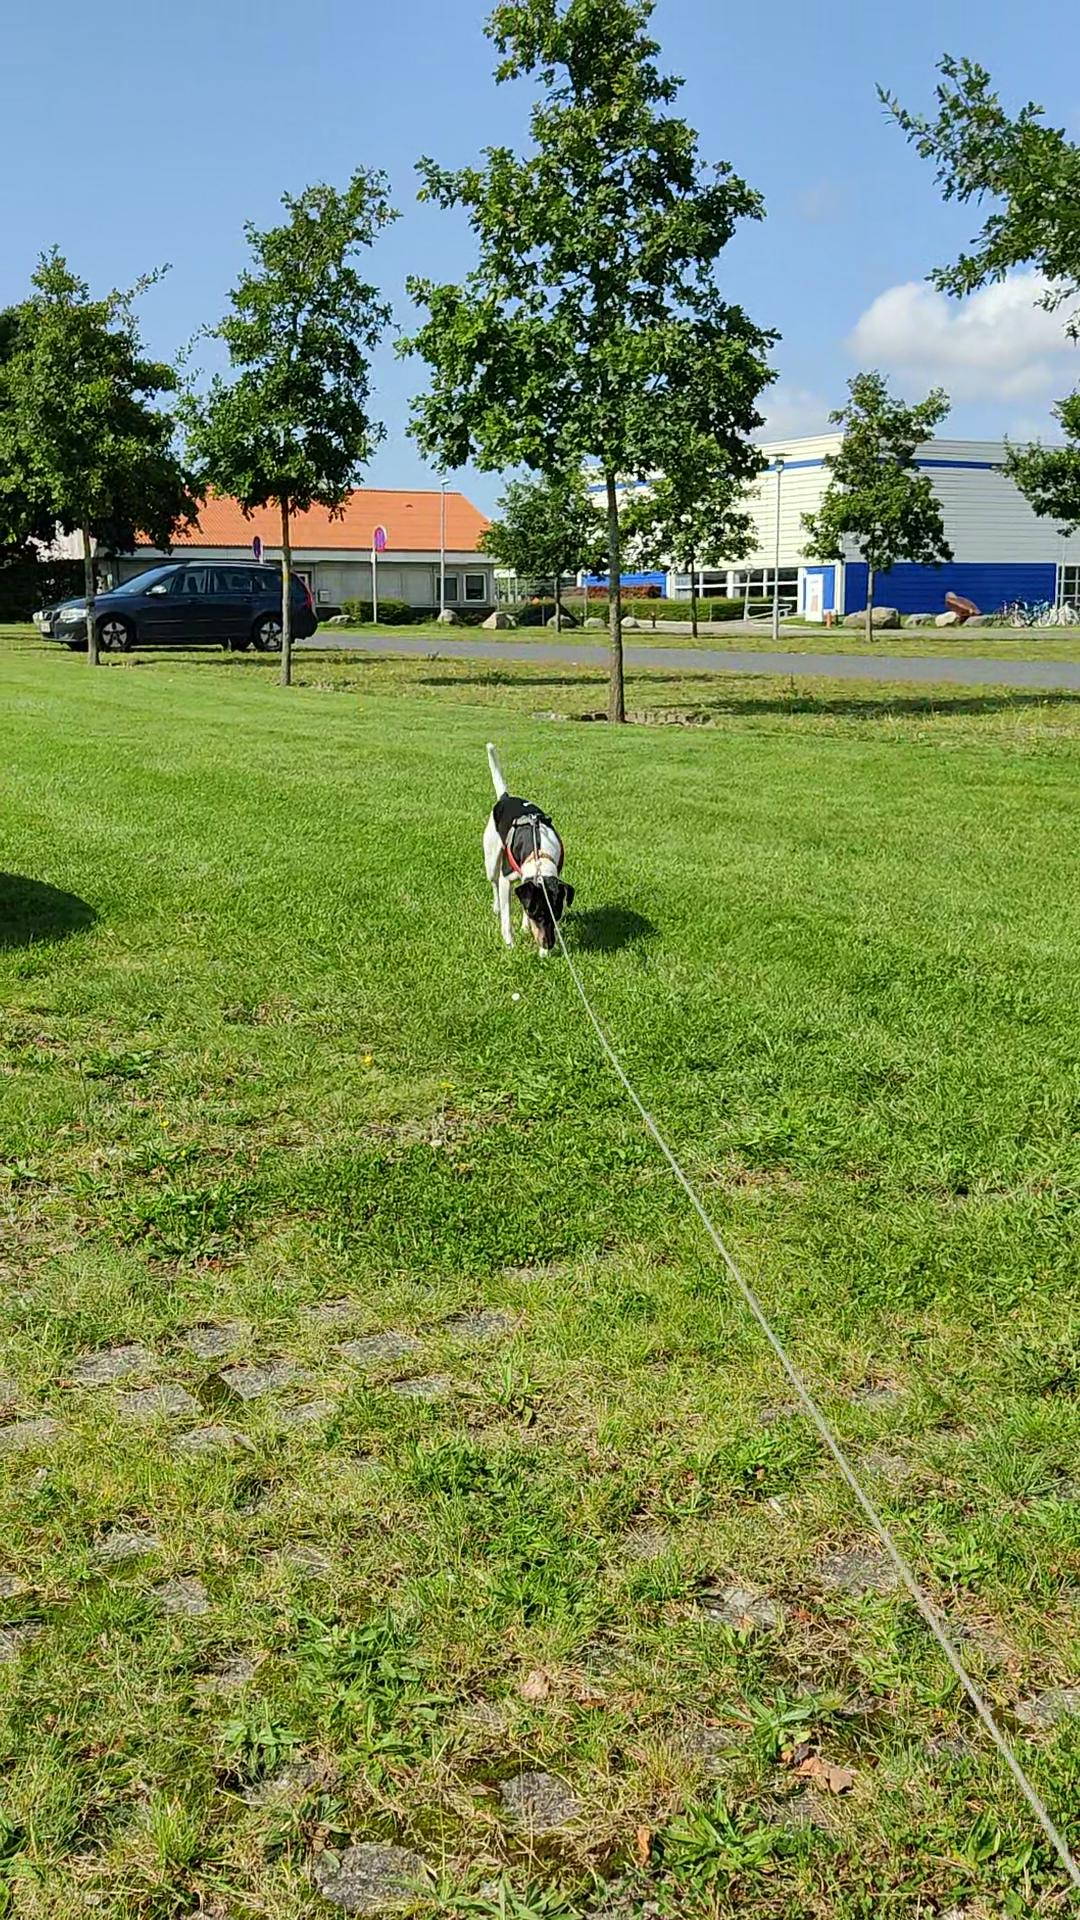Dog: (476, 731, 576, 963)
